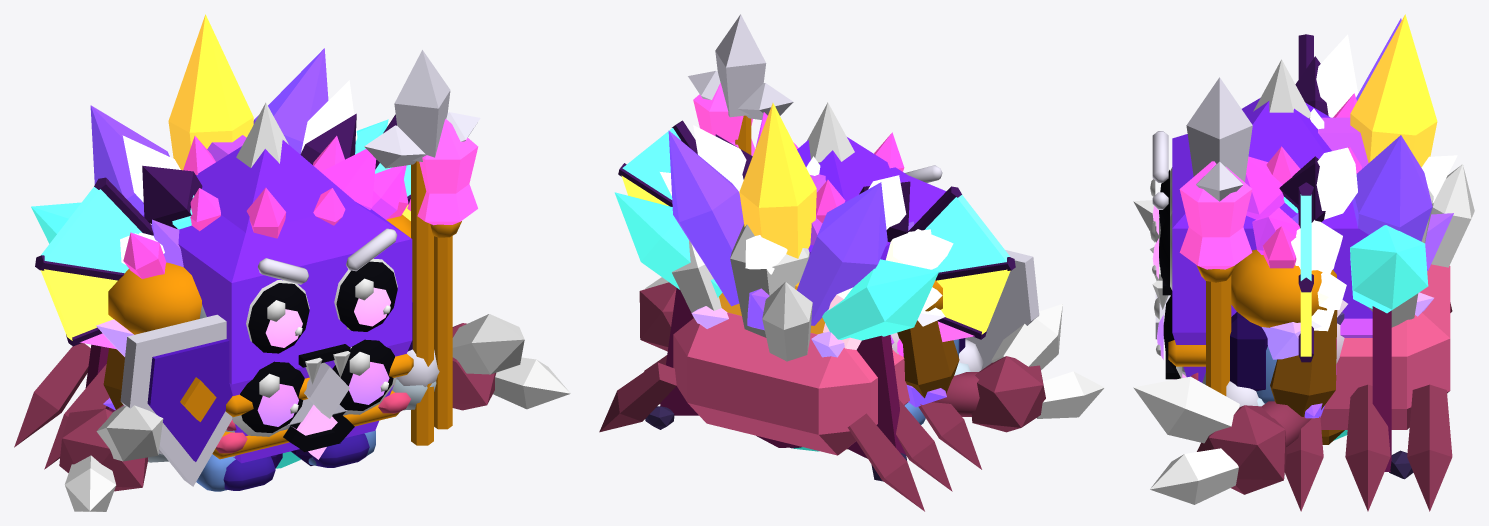
Rendered from crystal_belt_creatures.fbx.
The picture shows the model from 3 angles, left to right: view 1: azimuth 30°, elevation 25°; view 2: azimuth 150°, elevation 25°; view 3: azimuth 270°, elevation 25°; orthographic projection. The views are drawn at different scales.
Visible parts, largest first — view 1: Shard_Sentinel, Crystal_Monarch, Quartz_Crab, Prism_Bat, Shardling, Geode_Roller, Crystal_Golem; view 2: Quartz_Crab, Crystal_Monarch, Shard_Sentinel, Prism_Bat, Crystal_Golem, Shardling, Geode_Roller; view 3: Crystal_Monarch, Quartz_Crab, Shard_Sentinel, Prism_Bat, Crystal_Golem, Shardling, Geode_Roller.
Part boxes in pixels (left/top/right/bottom): Shard_Sentinel: left=120, top=50, right=480, bottom=486; Crystal_Monarch: left=31, top=14, right=478, bottom=491; Quartz_Crab: left=14, top=314, right=570, bottom=511; Prism_Bat: left=35, top=113, right=410, bottom=468; Shardling: left=96, top=219, right=410, bottom=490; Geode_Roller: left=226, top=149, right=406, bottom=430; Crystal_Golem: left=103, top=223, right=164, bottom=409; Quartz_Crab: left=599, top=224, right=1104, bottom=511; Crystal_Monarch: left=614, top=83, right=970, bottom=458; Shard_Sentinel: left=660, top=14, right=1039, bottom=371; Prism_Bat: left=618, top=120, right=1015, bottom=451; Crystal_Golem: left=719, top=156, right=959, bottom=449; Shardling: left=691, top=221, right=946, bottom=407; Geode_Roller: left=645, top=112, right=906, bottom=481; Crystal_Monarch: left=1174, top=14, right=1437, bottom=471; Quartz_Crab: left=1133, top=164, right=1474, bottom=511; Shard_Sentinel: left=1150, top=34, right=1457, bottom=407; Prism_Bat: left=1279, top=34, right=1372, bottom=440; Crystal_Golem: left=1270, top=108, right=1346, bottom=444; Shardling: left=1154, top=213, right=1453, bottom=418; Geode_Roller: left=1191, top=156, right=1413, bottom=479.
Size of the model in its own units: 3.3 by 2.6 by 1.97.
